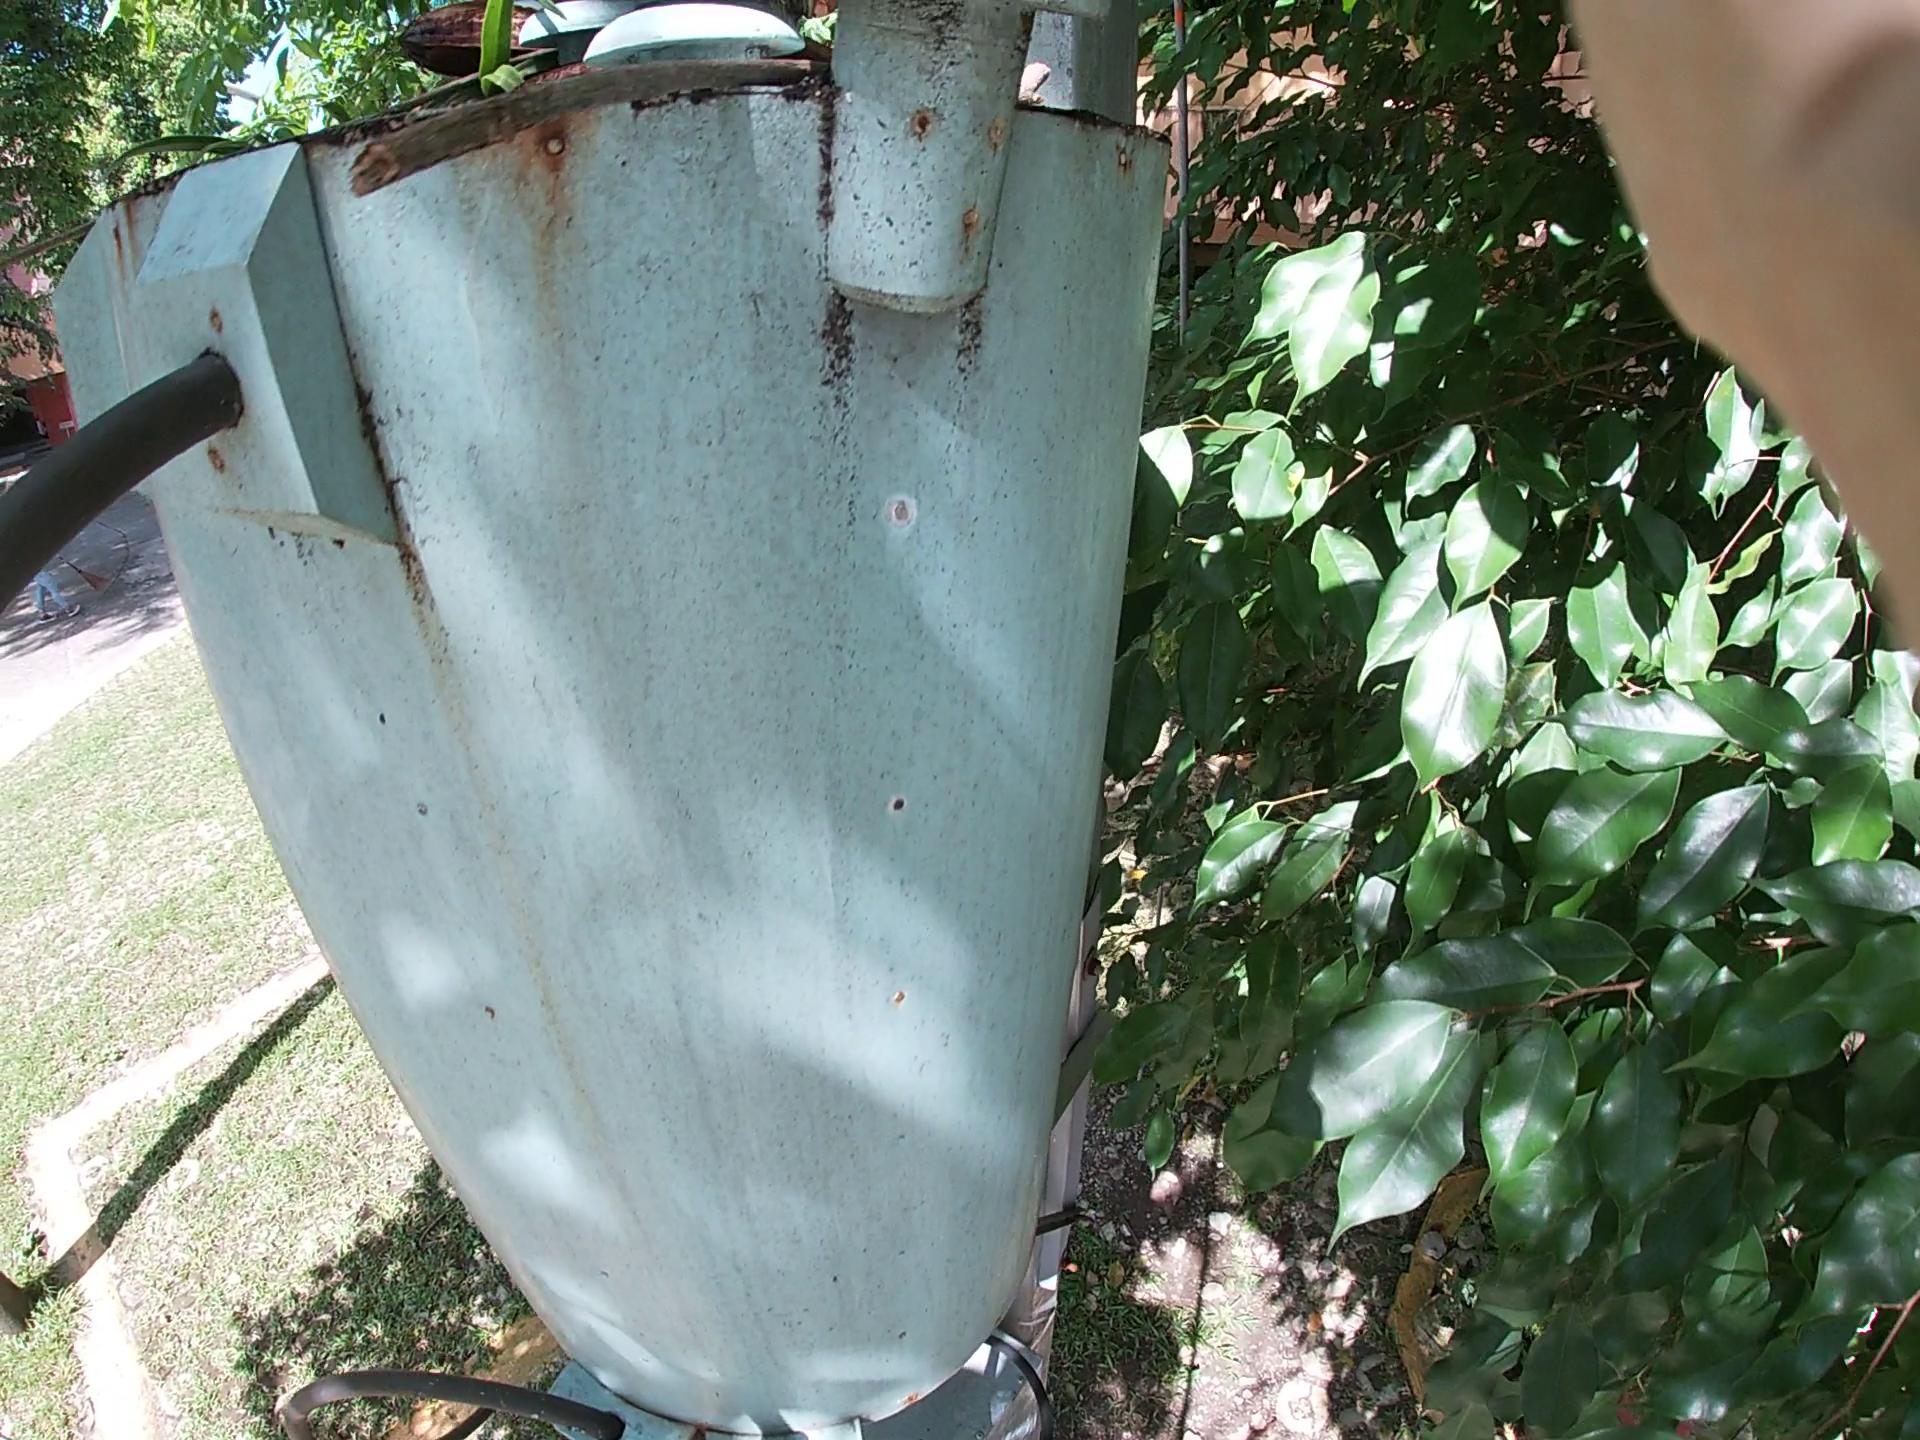tree branch: (379, 67, 822, 151)
